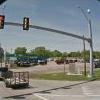Traffic light: (2, 9, 39, 34)
